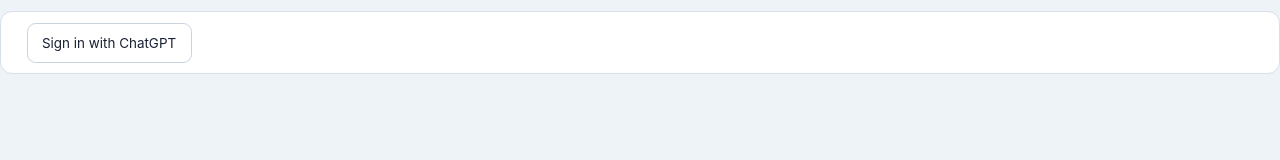
Scenario: AccountPanel › lets completion before the start response win without leaving a pending ref to cancel
Click the button "Sign in with ChatGPT" at (109, 43), box 27,23 -> 192,63
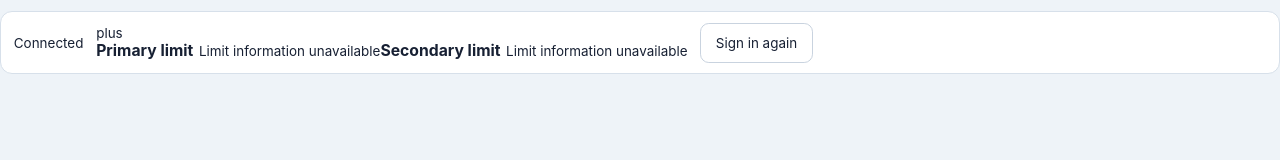
Result: the text "Connected" is shown at 14,35 -> 83,51
